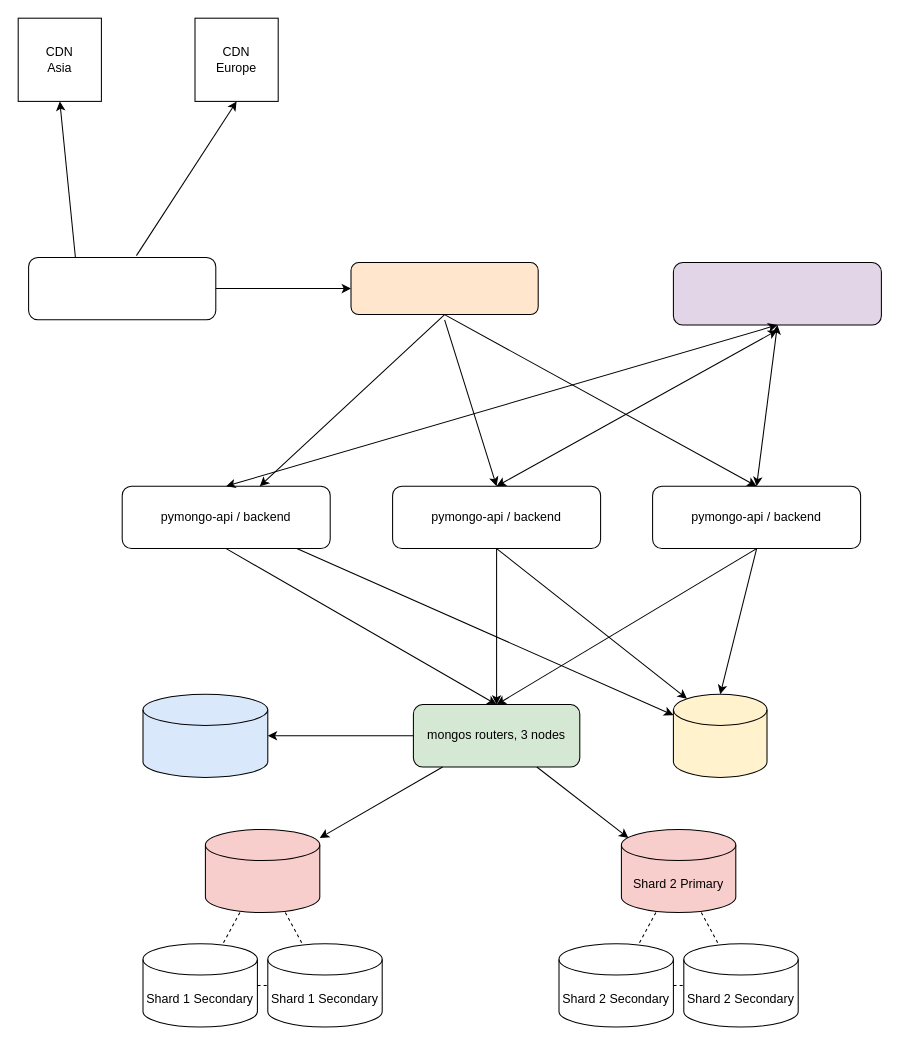
Image size: 900x1045. Some labels were removed from this diagram. Each missing label, with the box of its shape:
API Gateway (Load Balancer): (350, 262, 538, 315)
Client: (28, 256, 216, 320)
Config Server, 3 nodes: (142, 693, 268, 777)
HashiCorp Consul (Service Discovery): (672, 262, 881, 325)
Redis Cache: (672, 693, 767, 777)
Shard 1 Primary: (204, 828, 320, 913)
